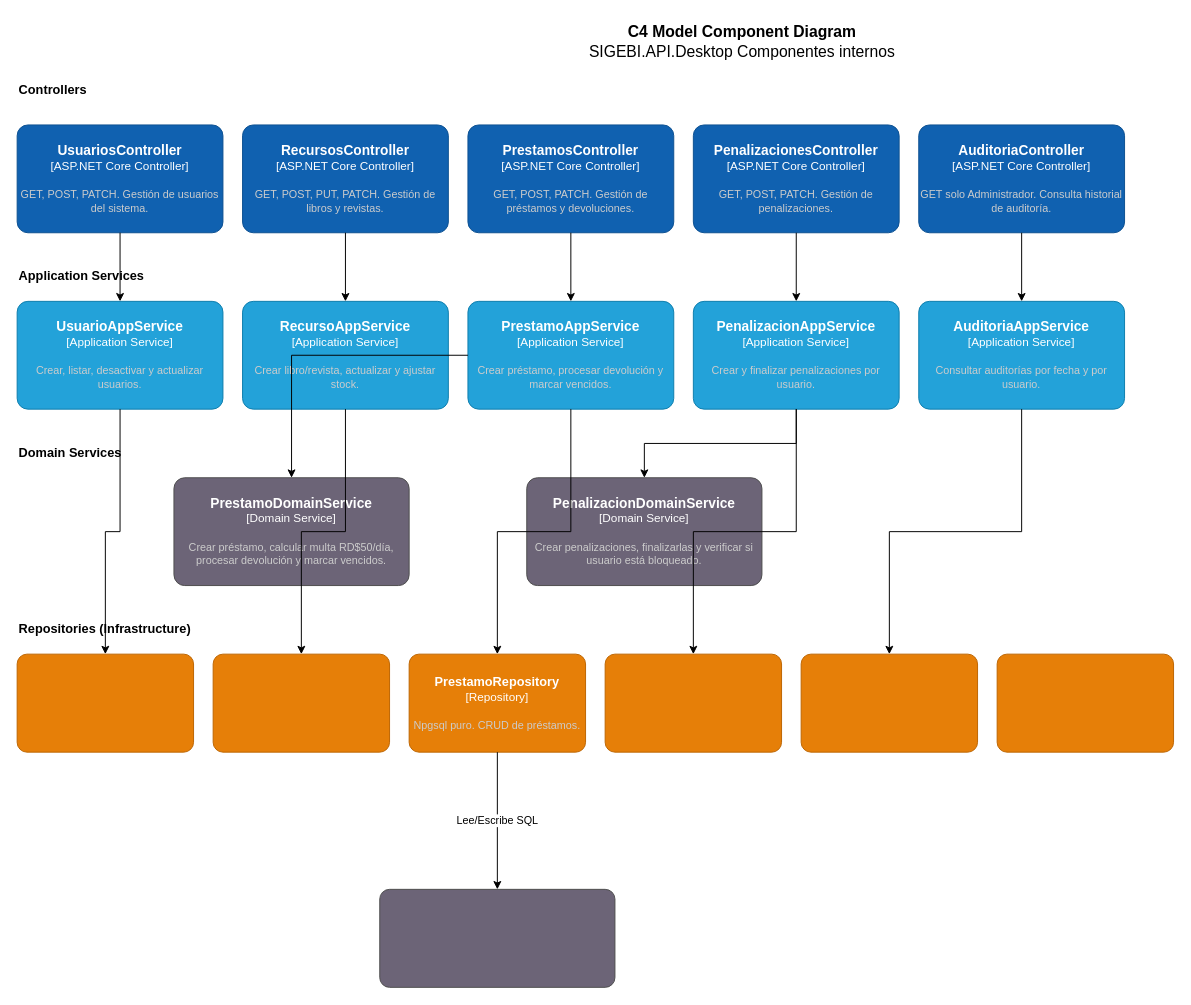
Some shapes in this 1191 by 1005 pixel diagram are drawn without their labels. The centre of each missing label's shape, as x and y in pixels:
AuditoriaRepository [Repository] Npgsql puro. Registro de auditoría.: [889,702]
PenalizacionRepository [Repository] Npgsql puro. CRUD de penalizaciones.: [693,702]
PostgreSQL [Database] SIGEBI_DB. Todas las tablas del sistema.: [497,937]
RecursoRepository [Repository] Npgsql puro. CRUD de recursos.: [301,702]
RolRepository [Repository] Npgsql puro. CRUD de roles.: [1085,702]
UsuarioRepository [Repository] Npgsql puro. CRUD de usuarios.: [105,702]
